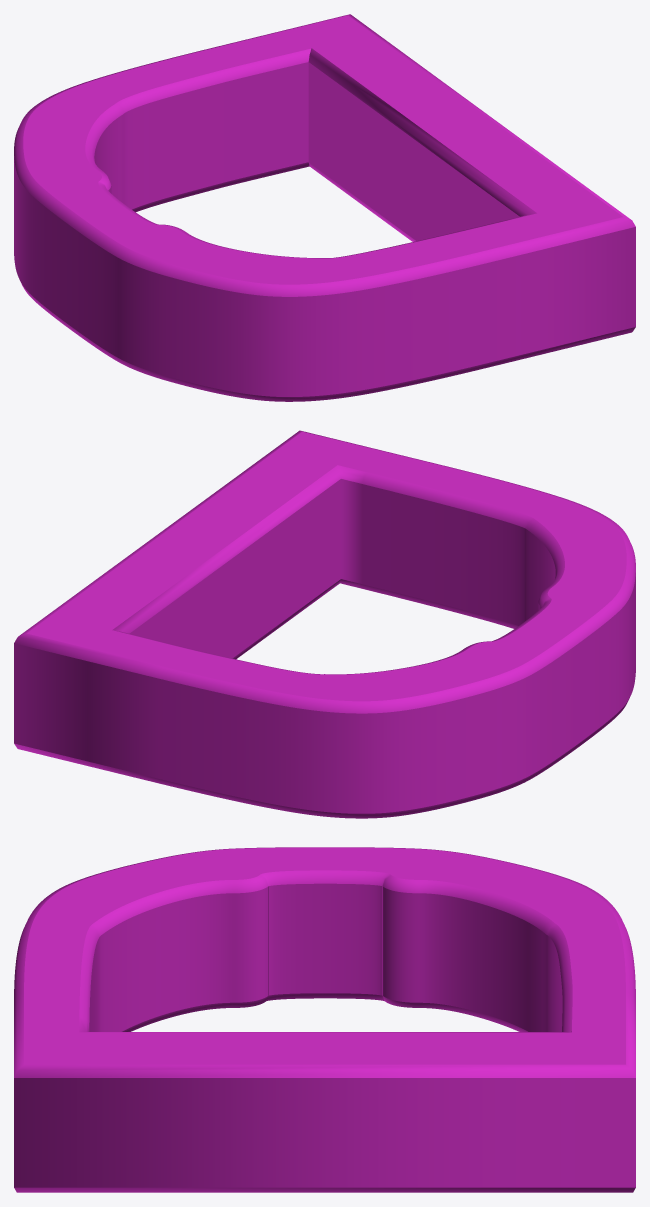
File: Blocky_LetterD.fbx
3 renders of one model, top to bottom at view 1: azimuth 30°, elevation 25°; view 2: azimuth 150°, elevation 25°; view 3: azimuth 270°, elevation 25°, orthographic. The views are drawn at different scales.
Visible parts, largest first — view 1: BlockyLetter_D; view 2: BlockyLetter_D; view 3: BlockyLetter_D.
Boxes of the visible parts, box(x1,y1,x2,y2) form: BlockyLetter_D: box(14, 14, 635, 401); BlockyLetter_D: box(14, 430, 635, 818); BlockyLetter_D: box(14, 847, 635, 1192).
Size of the model in its own units: 0.5306 by 0.14 by 0.618.
